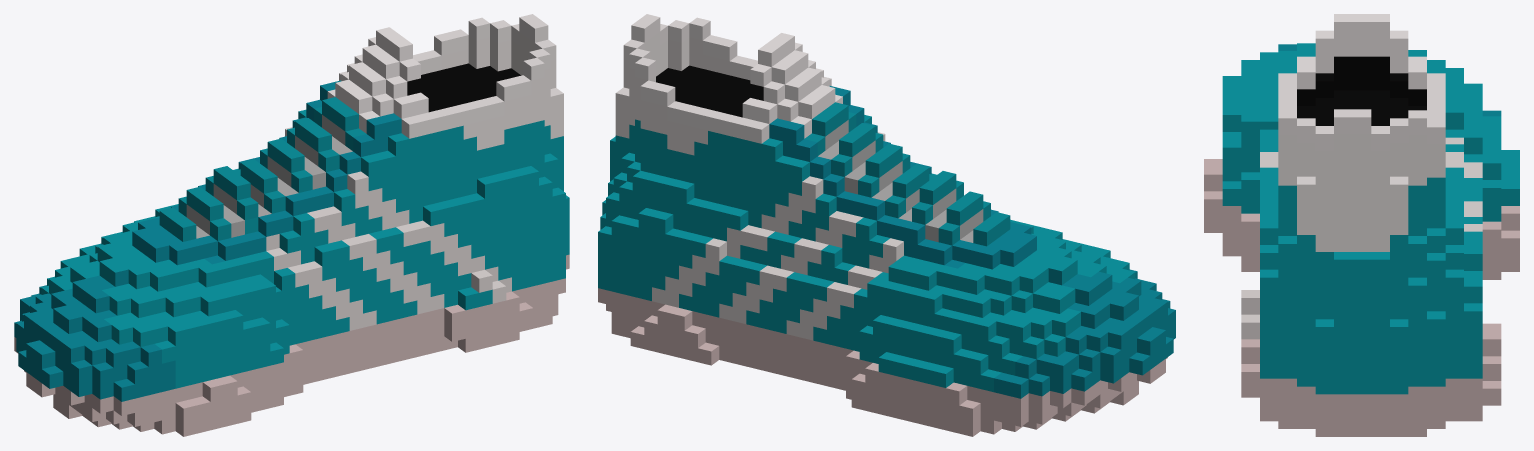
Rendered from Cloud n Sky.fbx.
3 views of the same model, side by side, from view 1: azimuth 30°, elevation 25°; view 2: azimuth 150°, elevation 25°; view 3: azimuth 270°, elevation 25° (orthographic). The views are drawn at different scales.
Parts seen in each view (by area): view 1: Untitled; view 2: Untitled; view 3: Untitled.
Part boxes in pixels (<box>): Untitled: <box>14,14,569,436</box>; Untitled: <box>598,14,1175,436</box>; Untitled: <box>1204,14,1519,436</box>.
Bounding box in the file's own units: 390 × 200 × 170.
